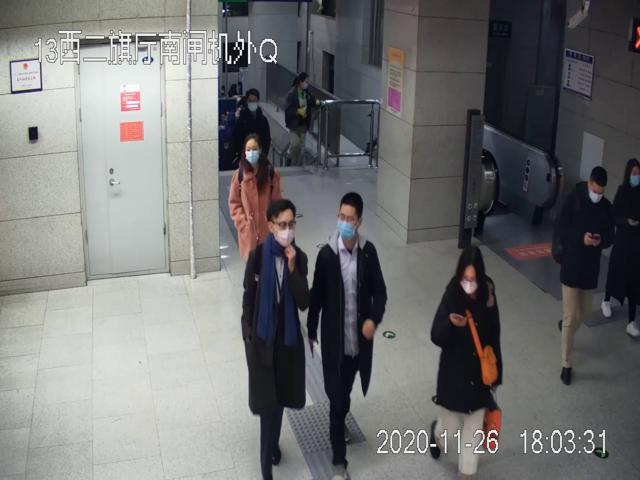person: (309, 189, 389, 480), (429, 243, 516, 480), (239, 196, 308, 480), (551, 163, 619, 386), (227, 134, 284, 265), (283, 70, 325, 162), (230, 84, 277, 146)
